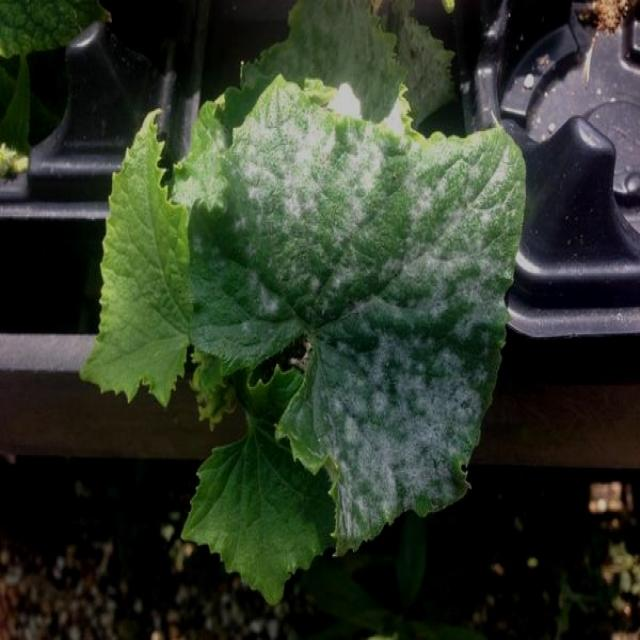Powdery Mildew: (79, 67, 529, 603)
